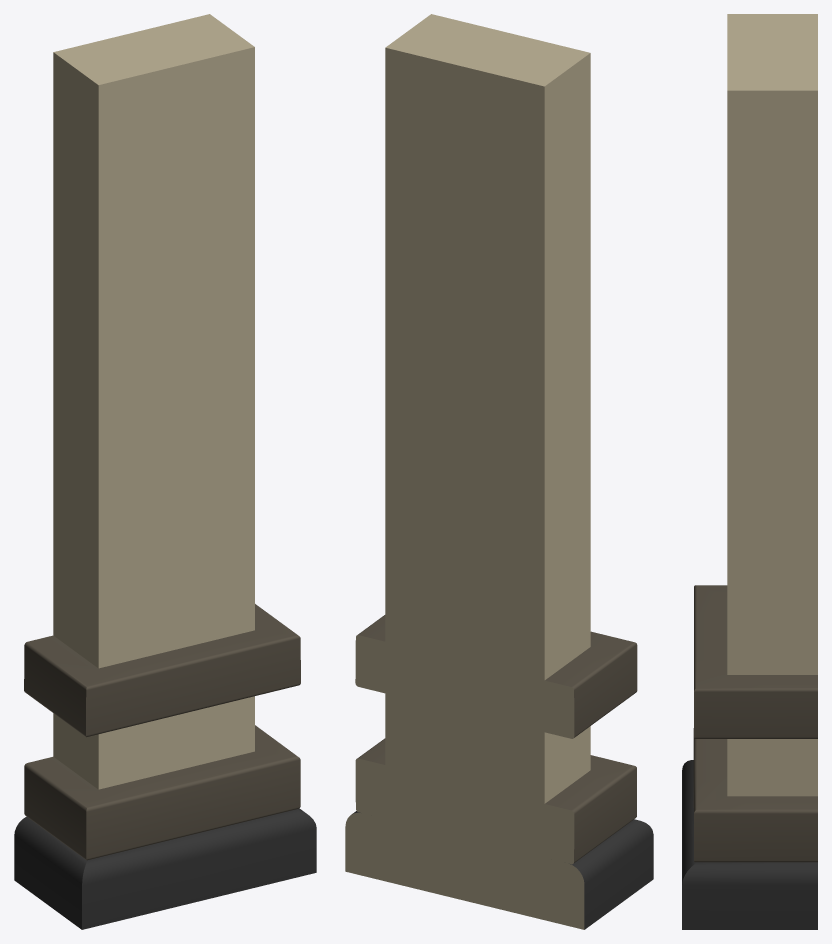
Rendered from LargeWindow_Corners.fbx.
The picture shows the model from 3 angles, left to right: view 1: azimuth 30°, elevation 25°; view 2: azimuth 150°, elevation 25°; view 3: azimuth 270°, elevation 25°; orthographic projection.
Visible parts, largest first — view 1: LargeWindow_TopLeft_Corner, LargeWindow_TopRight_Corner, LargeWindow_BotLeft_Corner, LargeWindow_BotRight_Corner; view 2: LargeWindow_TopLeft_Corner, LargeWindow_TopRight_Corner, LargeWindow_BotLeft_Corner, LargeWindow_BotRight_Corner; view 3: LargeWindow_TopRight_Corner, LargeWindow_BotRight_Corner, LargeWindow_TopLeft_Corner, LargeWindow_BotLeft_Corner.
Part boxes in pixels (box(x1,y1,x2,y2)): LargeWindow_TopLeft_Corner: box(24, 33, 193, 860); LargeWindow_TopRight_Corner: box(132, 14, 300, 834); LargeWindow_BotLeft_Corner: box(14, 635, 199, 929); LargeWindow_BotRight_Corner: box(177, 604, 316, 901); LargeWindow_TopLeft_Corner: box(465, 33, 636, 864); LargeWindow_TopRight_Corner: box(355, 14, 510, 838); LargeWindow_BotLeft_Corner: box(465, 631, 653, 929); LargeWindow_BotRight_Corner: box(345, 615, 464, 900); LargeWindow_TopRight_Corner: box(693, 52, 817, 862); LargeWindow_BotRight_Corner: box(682, 636, 817, 929); LargeWindow_TopLeft_Corner: box(693, 14, 817, 759); LargeWindow_BotLeft_Corner: box(682, 585, 727, 826).
Bounding box in the file's own units: 1.8 × 6 × 0.9006.
